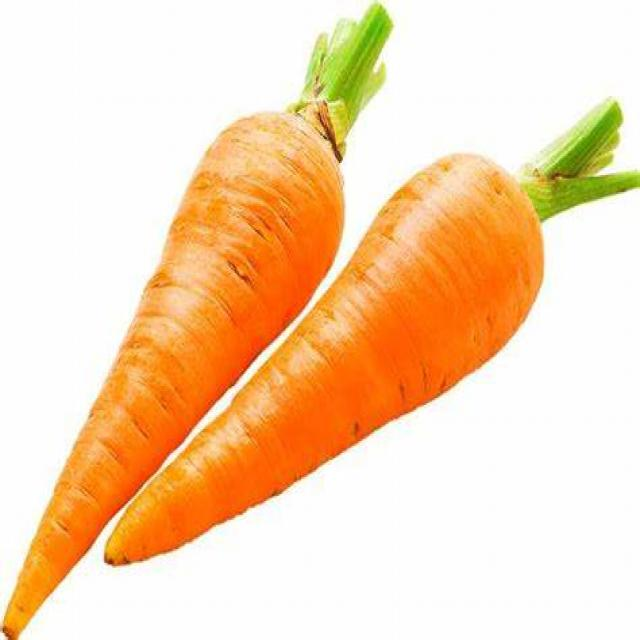Carrot: (113, 101, 640, 577), (0, 12, 405, 619)
